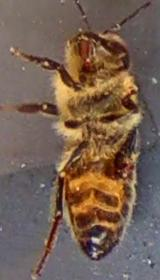varroa_mite: (115, 152, 136, 180)
